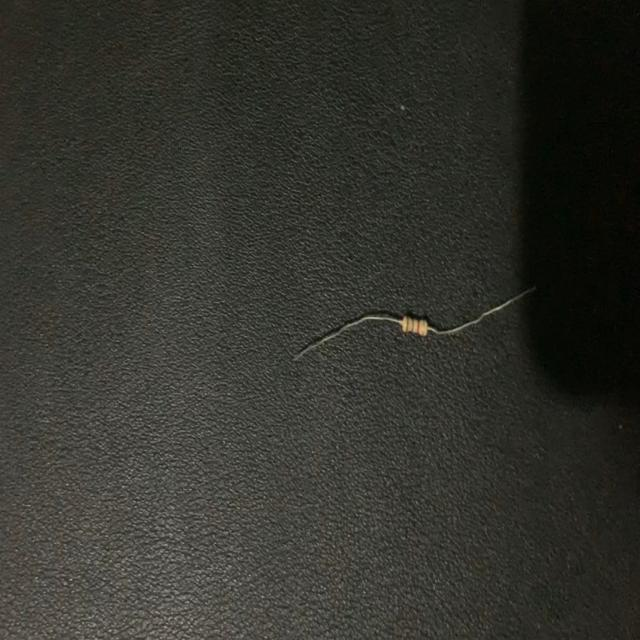resistor: (293, 282, 538, 366)
